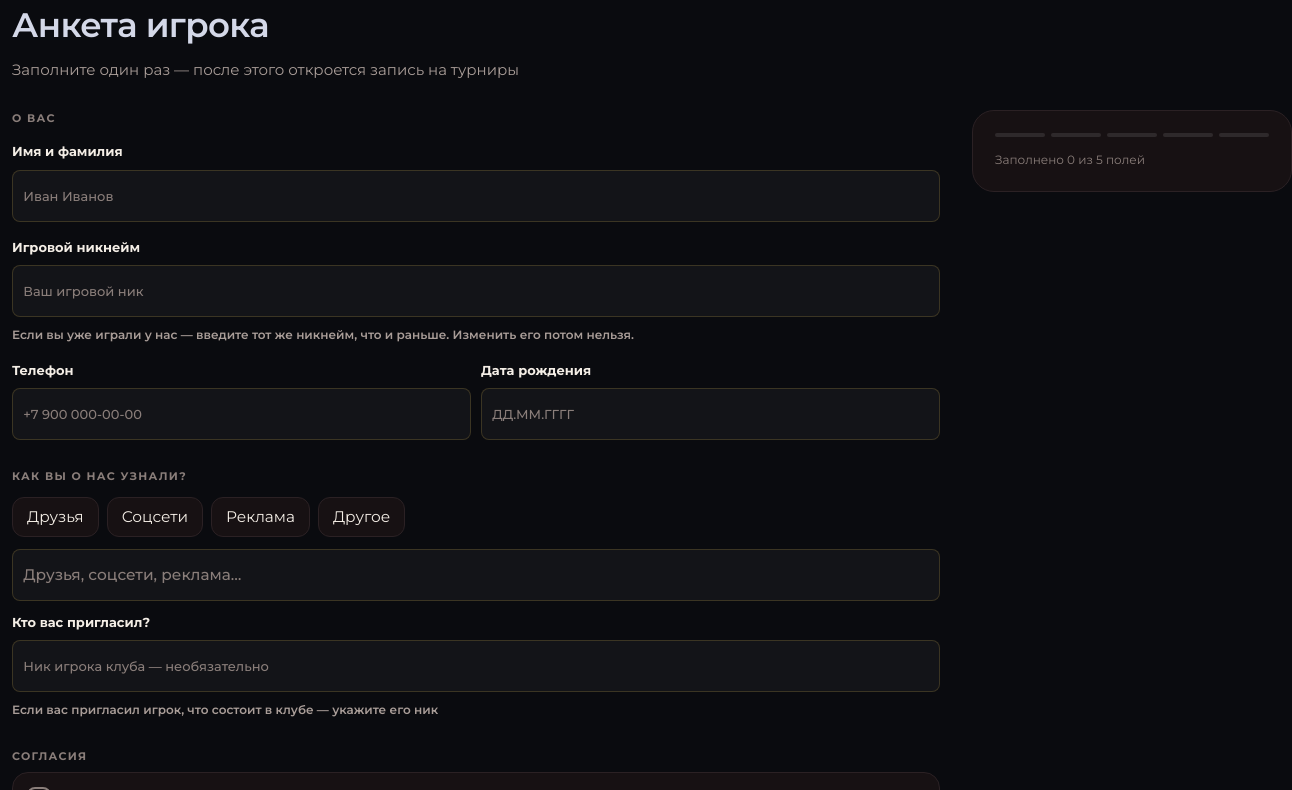
client mini-app: анкета новичка › keeps the list closed when a late answer comes after the pick
In the field with placeholder "Ник игрока клуба — необязательно": (476, 666) [12,640,940,692], type "chu"
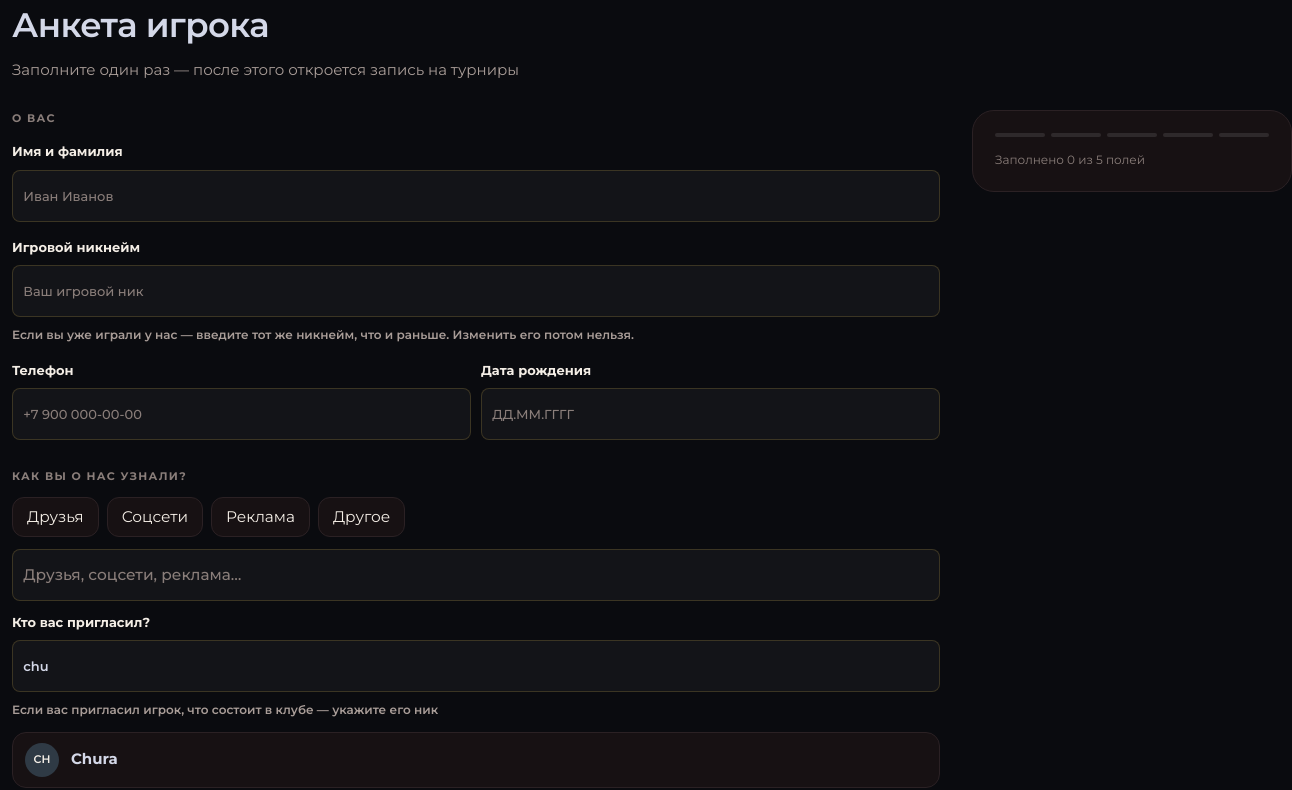
Replace the text in the field with placeholder "Ник игрока клуба — необязательно" with "chur": (476, 666) [12,640,940,692]
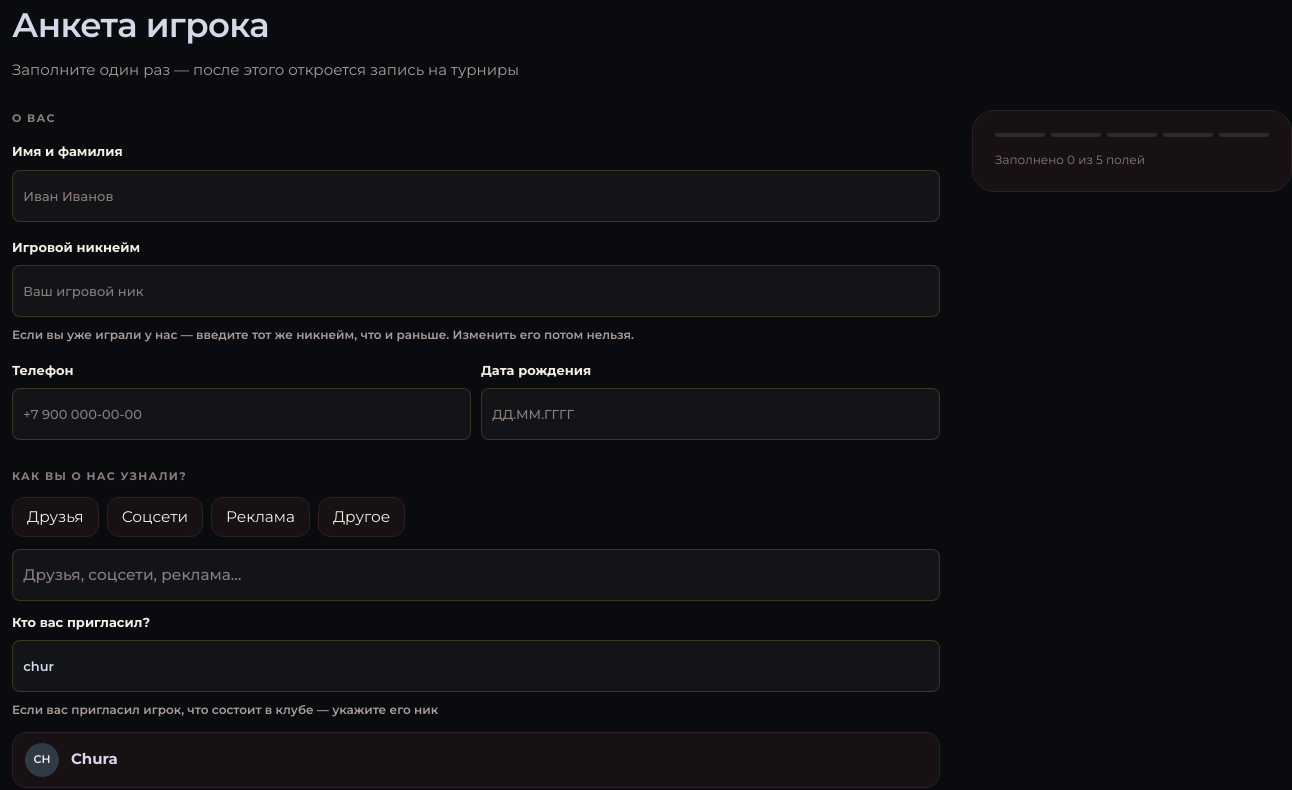
Click the button "CH Chura": (42, 760) [12,732,940,788]
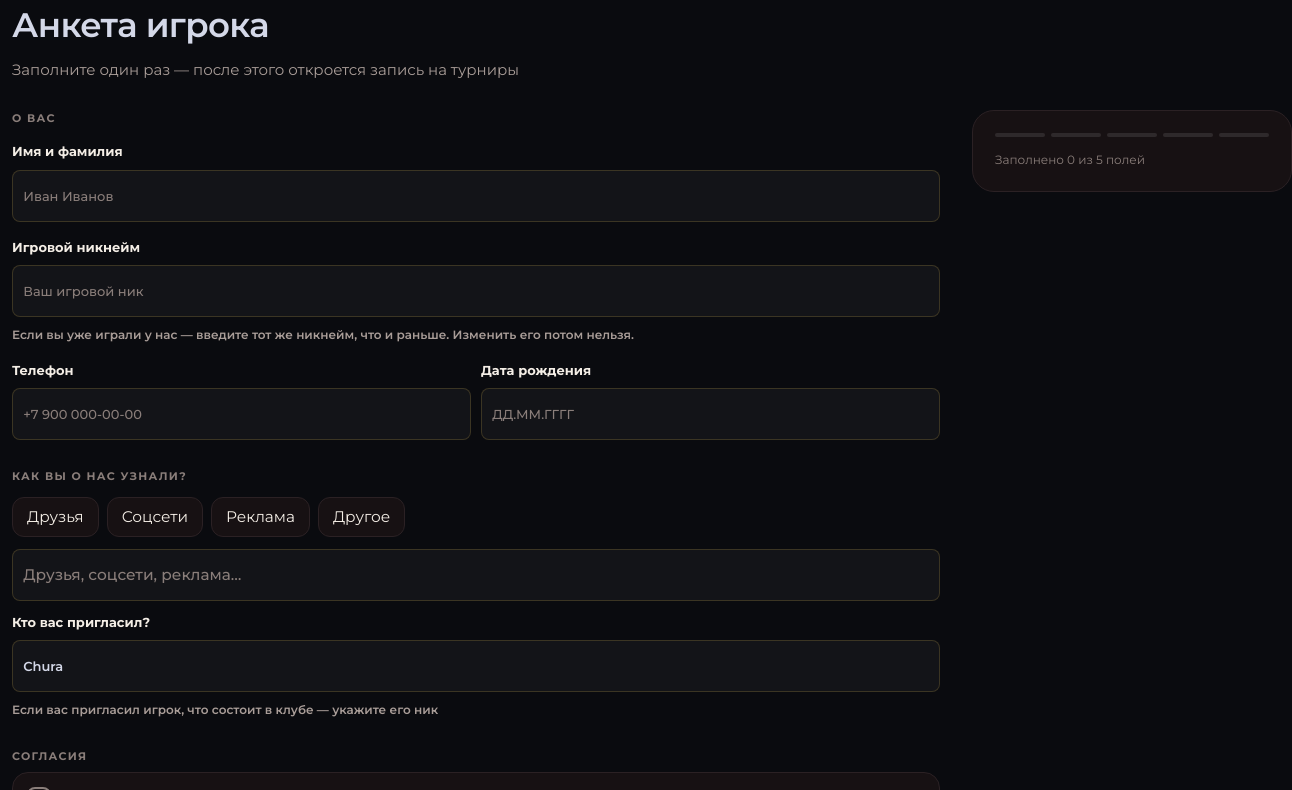
Now the field with placeholder "Ник игрока клуба — необязательно" holds "Chura", box [12,640,940,692]
